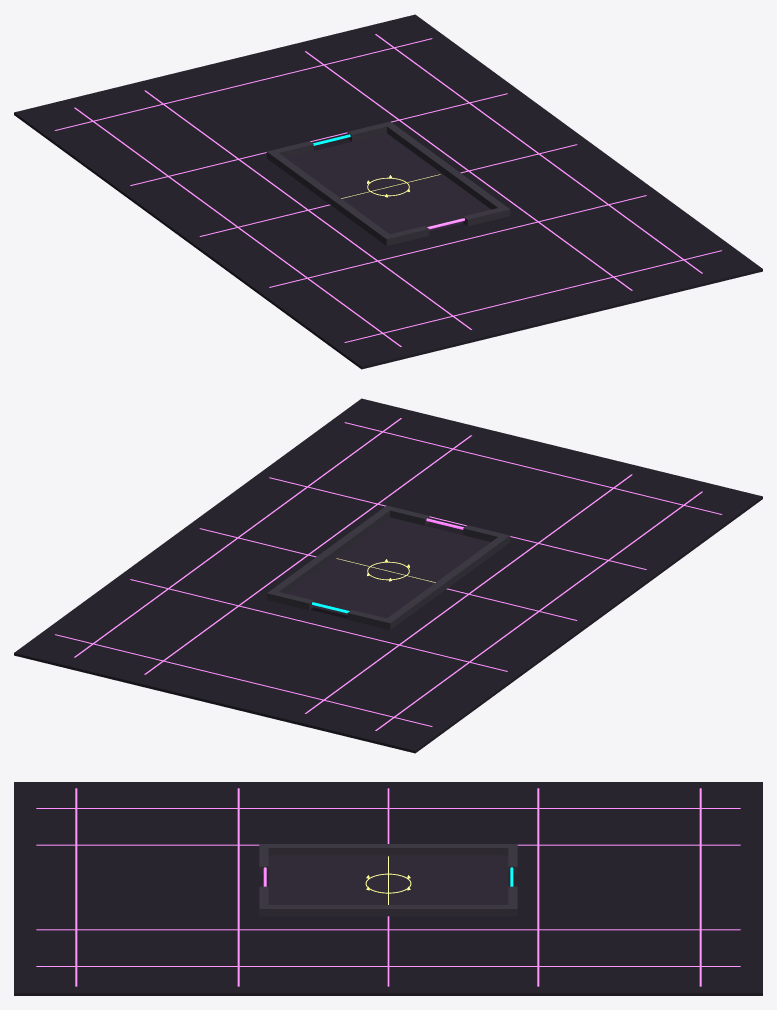
File: mesa_kiara_cat.glb
The picture shows the model from 3 angles, top to bottom: view 1: azimuth 30°, elevation 25°; view 2: azimuth 150°, elevation 25°; view 3: azimuth 270°, elevation 25°; orthographic projection. The views are drawn at different scales.
Parts seen in each view (by area): view 1: ArenaStadiumFloor, KiaraTableSurface, Cube, Cube.002, Cube.015, Cube.013, Cube.016, Cube.014, Cube.021, Cube.017, Cube.018; view 2: ArenaStadiumFloor, KiaraTableSurface, Cube, Cube.002, Cube.013, Cube.015, Cube.016, Cube.014, Cube.021, Cube.017, Cube.020; view 3: ArenaStadiumFloor, KiaraTableSurface, Cube.002, Cube, Cube.015, Cube.014, Cube.013, Cube.016, Cube.018, Cube.020, Cube.021, Cube.017.
Boxes of the visible parts, box(x1,y1,x2,y2) form: ArenaStadiumFloor: box(14, 14, 762, 369); KiaraTableSurface: box(286, 133, 490, 234); Cube: box(266, 150, 394, 245); Cube.002: box(383, 121, 510, 217); Cube.015: box(305, 51, 632, 290); Cube.013: box(74, 107, 401, 346); Cube.016: box(375, 34, 702, 273); Cube.014: box(144, 90, 471, 329); Cube.021: box(54, 38, 432, 130); Cube.017: box(344, 250, 721, 342); Cube.018: box(269, 195, 646, 287); ArenaStadiumFloor: box(14, 398, 762, 753); KiaraTableSurface: box(286, 517, 490, 618); Cube: box(382, 534, 510, 629); Cube.002: box(266, 505, 393, 601); Cube.013: box(375, 491, 702, 730); Cube.015: box(144, 435, 471, 674); Cube.016: box(74, 418, 401, 657); Cube.014: box(305, 474, 632, 713); Cube.021: box(55, 634, 432, 726); Cube.017: box(344, 422, 722, 514); Cube.020: box(130, 579, 507, 671); ArenaStadiumFloor: box(14, 782, 762, 995); KiaraTableSurface: box(268, 855, 508, 904); Cube.002: box(259, 905, 517, 916); Cube: box(259, 844, 517, 855); Cube.015: box(36, 929, 740, 930); Cube.014: box(36, 844, 740, 845); Cube.013: box(36, 808, 740, 808); Cube.016: box(36, 966, 740, 966); Cube.018: box(237, 788, 239, 986); Cube.020: box(537, 788, 539, 986); Cube.021: box(699, 788, 701, 986); Cube.017: box(75, 788, 77, 986).
Bounding box in the file's own units: 4 × 0.1225 × 6.
